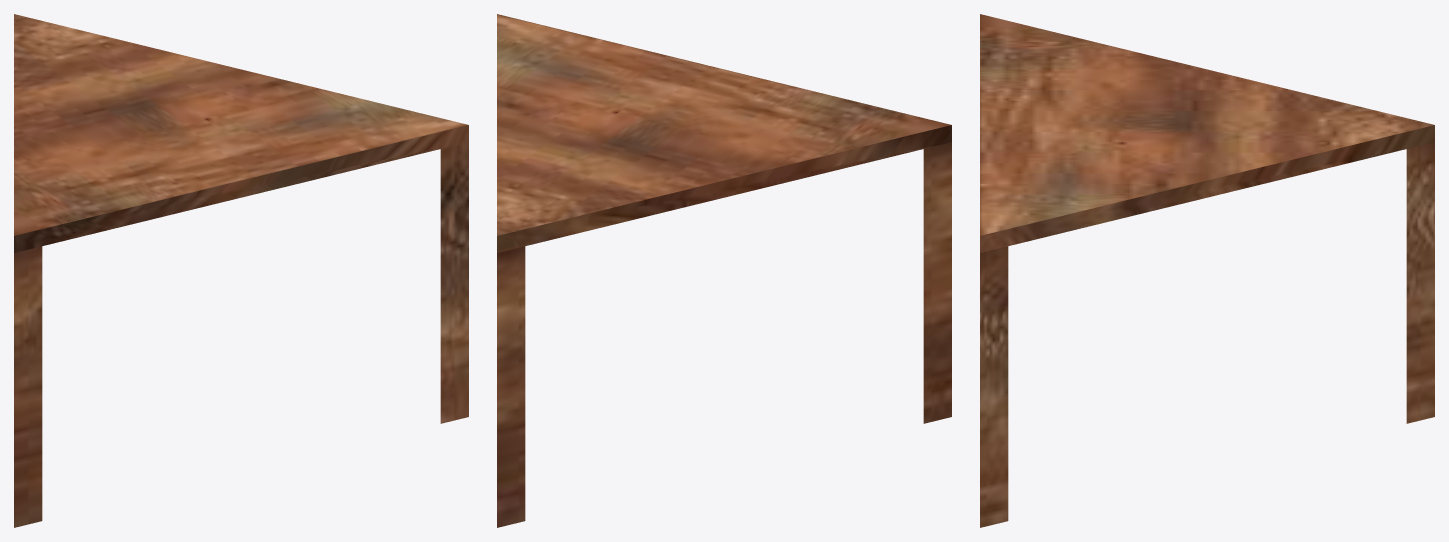
The model's file is triangle.fbx.
3 views of the same model, side by side, from view 1: azimuth 30°, elevation 25°; view 2: azimuth 150°, elevation 25°; view 3: azimuth 270°, elevation 25° (orthographic).
Parts seen in each view (by area): view 1: Cylinder; view 2: Cylinder; view 3: Cylinder.
Part boxes in pixels (x1,y1,x2,y2): Cylinder: [14, 14, 468, 527]; Cylinder: [497, 14, 951, 527]; Cylinder: [980, 14, 1434, 527].
Bounding box in the file's own units: 1386 × 850 × 1200.
